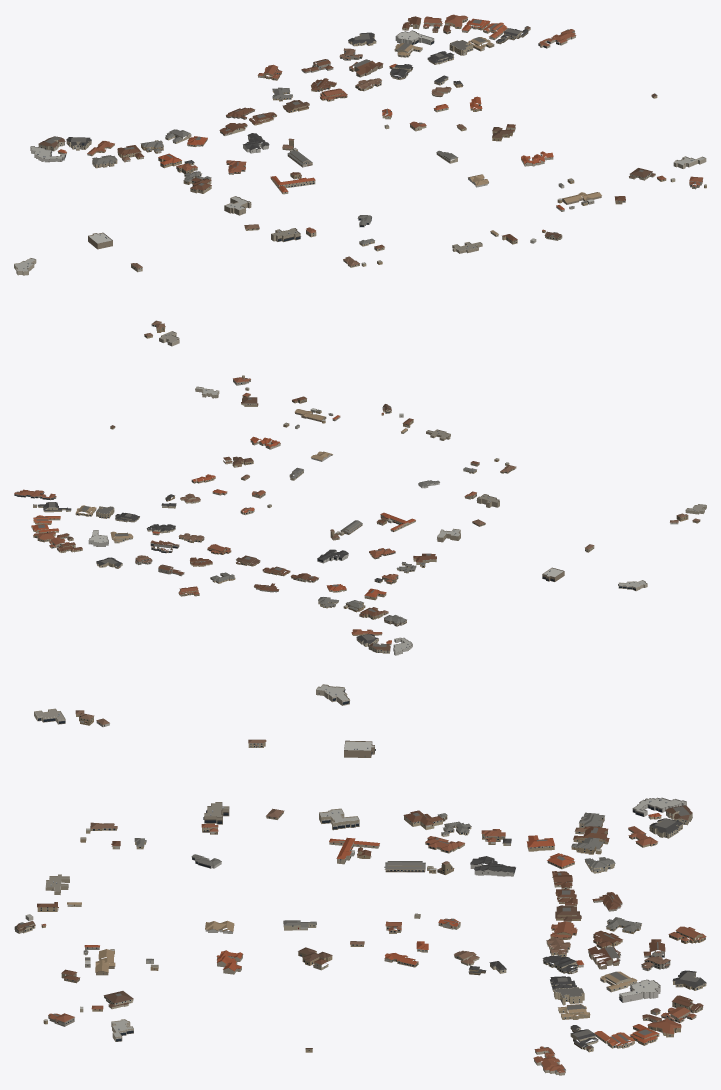
3 views of the same model, one above another, from view 1: azimuth 30°, elevation 25°; view 2: azimuth 150°, elevation 25°; view 3: azimuth 270°, elevation 25° (orthographic). The views are drawn at different scales.
Visible parts, largest first — view 1: buildings_r3_c0_lod0; view 2: buildings_r3_c0_lod0; view 3: buildings_r3_c0_lod0.
Boxes of the visible parts, x1,y1,x2,y2 form: buildings_r3_c0_lod0: (14,14,706,346); buildings_r3_c0_lod0: (14,375,706,655); buildings_r3_c0_lod0: (14,684,706,1075).
Size of the model in its own units: 1109 by 75.11 by 794.
